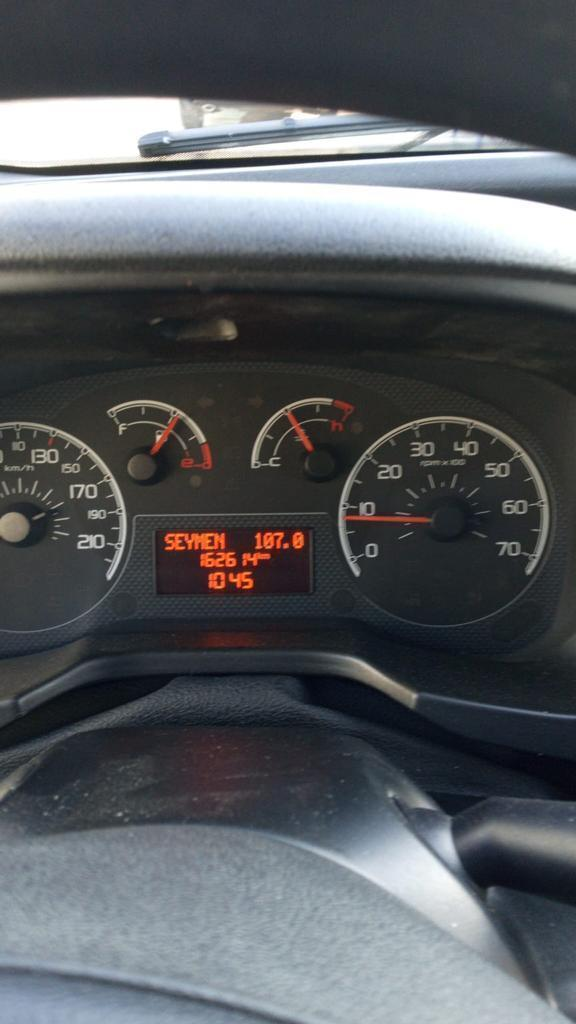,: (282, 542, 289, 550)
0: (212, 571, 225, 589), (292, 532, 304, 549), (263, 532, 274, 549)
1: (253, 532, 262, 549), (207, 573, 212, 589), (199, 553, 204, 567), (241, 552, 246, 566)
2: (214, 552, 224, 567)
4: (228, 572, 241, 588), (246, 552, 258, 566)
5: (241, 571, 253, 588)
6: (225, 552, 236, 567), (205, 552, 214, 567)
7: (273, 532, 284, 549)
X: (183, 532, 194, 550), (174, 533, 185, 550), (193, 533, 204, 550), (213, 532, 224, 549), (203, 533, 214, 549), (164, 533, 174, 550)
odometer: (150, 527, 313, 596)
